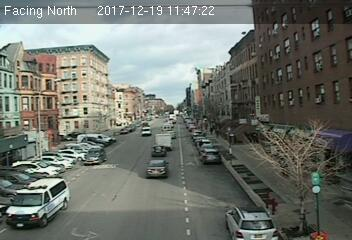car: (224, 203, 276, 240), (146, 159, 166, 178), (83, 147, 105, 164), (200, 148, 219, 163), (151, 145, 165, 156)
police: (5, 177, 70, 229)
truck: (154, 134, 173, 150)
